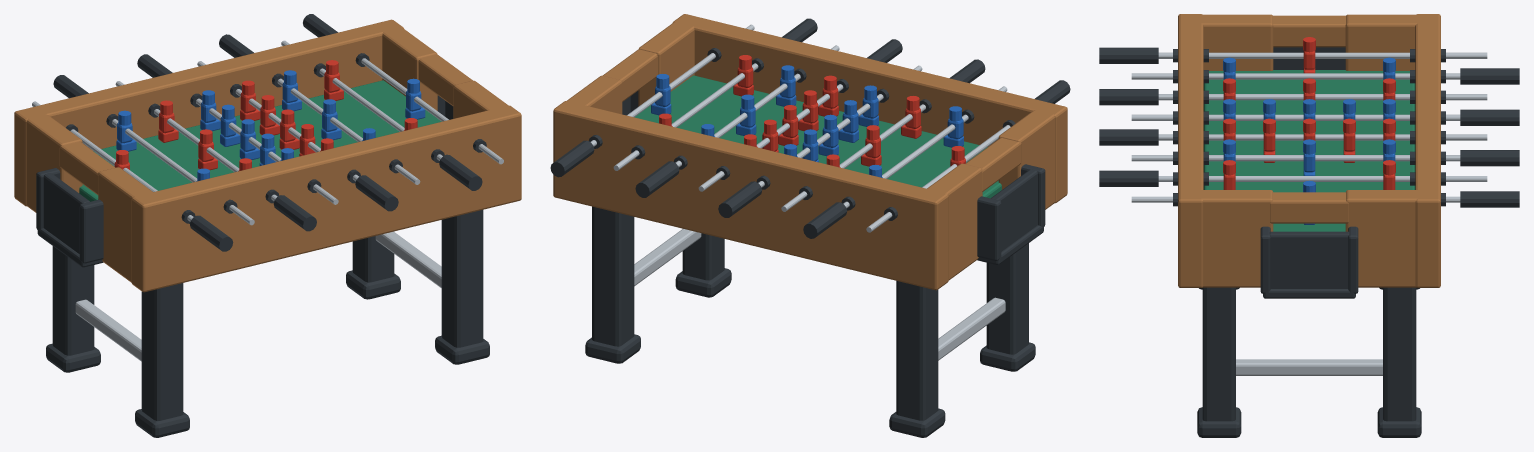
The model's file is NEW_RECOVERY_128_LOD0.fbx.
3 renders of one model, left to right at view 1: azimuth 30°, elevation 25°; view 2: azimuth 150°, elevation 25°; view 3: azimuth 270°, elevation 25°, orthographic.
Visible parts, largest first — view 1: Foosball_static_LOD0; view 2: Foosball_static_LOD0; view 3: Foosball_static_LOD0.
Boxes of the visible parts, <box> form: Foosball_static_LOD0: <box>14,14,521,437</box>; Foosball_static_LOD0: <box>550,14,1070,437</box>; Foosball_static_LOD0: <box>1099,14,1519,437</box>.
Bounding box in the file's own units: 189 × 163 × 107.
